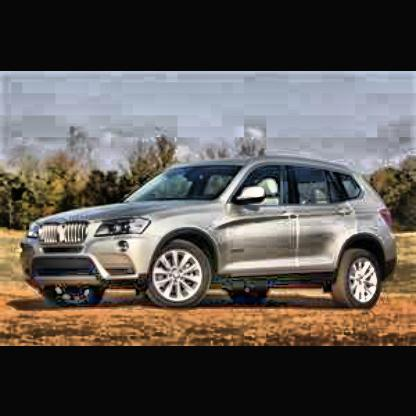BMW X3 SUV 2012: (19, 157, 400, 313)
